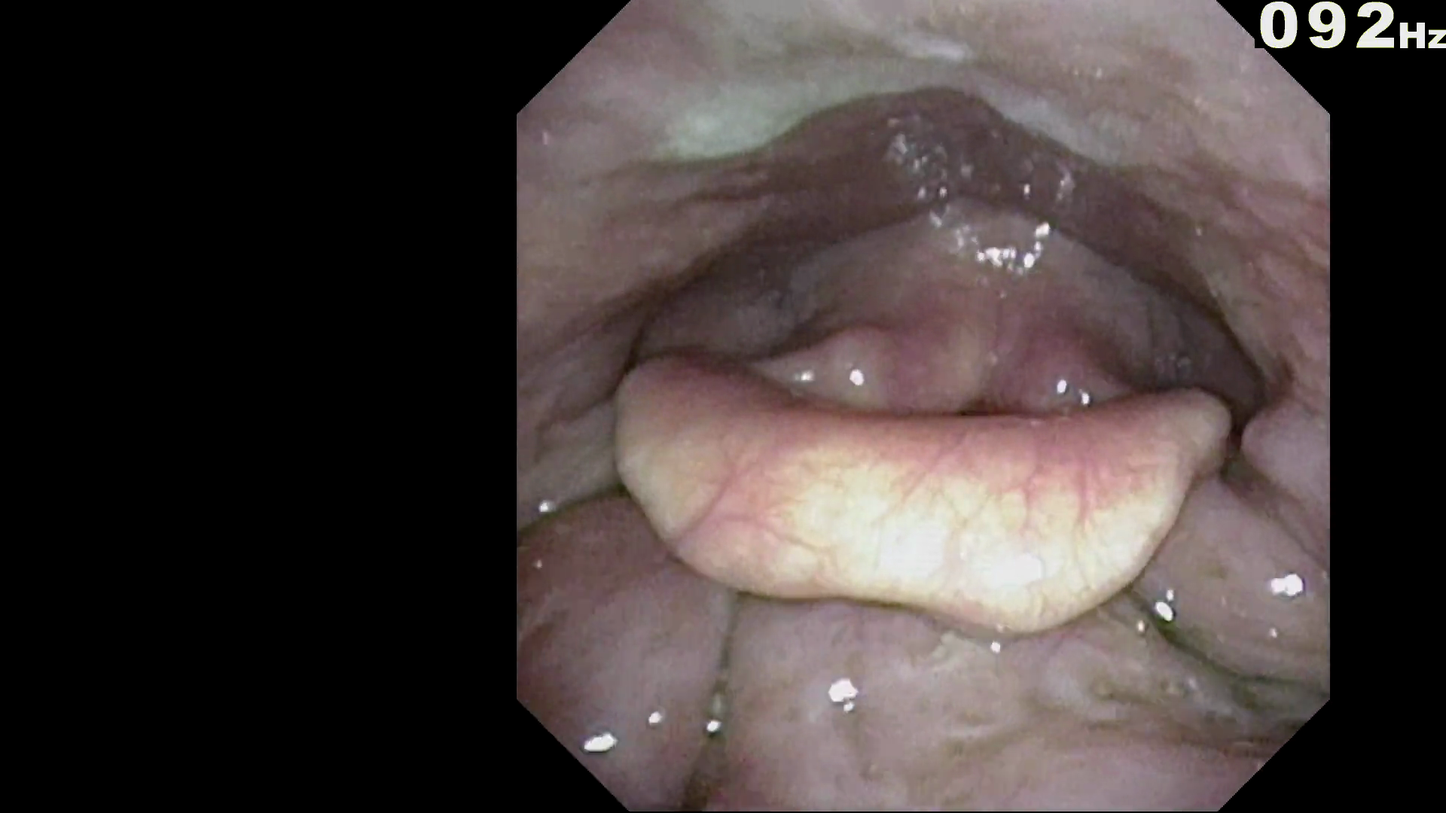epiglottis: (603, 373, 1216, 591)
trachea: (924, 368, 1021, 440)
